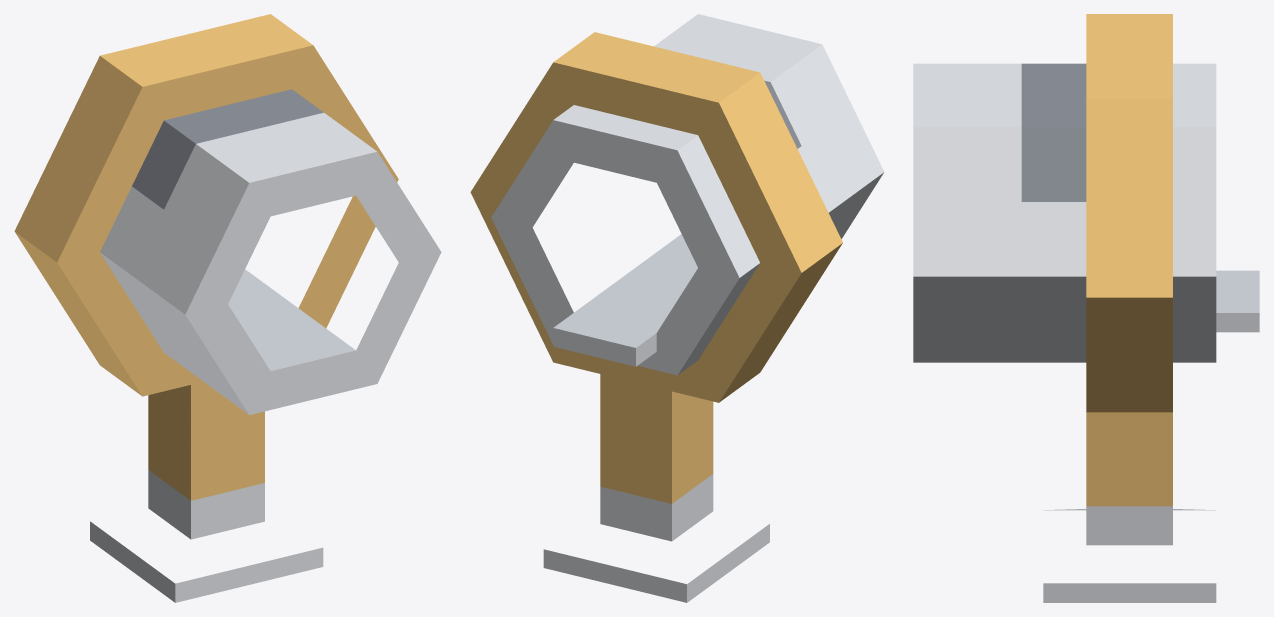
File: pipe_ringhighend_lev2.glb
3 renders of one model, left to right at view 1: azimuth 30°, elevation 25°; view 2: azimuth 150°, elevation 25°; view 3: azimuth 270°, elevation 25°, orthographic. The views are drawn at different scales.
Parts seen in each view (by area): view 1: pipe_ringhighend_lev2; view 2: pipe_ringhighend_lev2; view 3: pipe_ringhighend_lev2.
Part boxes in pixels (<box>): pipe_ringhighend_lev2: <box>14,14,441,602</box>; pipe_ringhighend_lev2: <box>470,14,884,602</box>; pipe_ringhighend_lev2: <box>913,14,1259,602</box>.
Size of the model in its own units: 0.9238 by 1.3 by 0.8.
